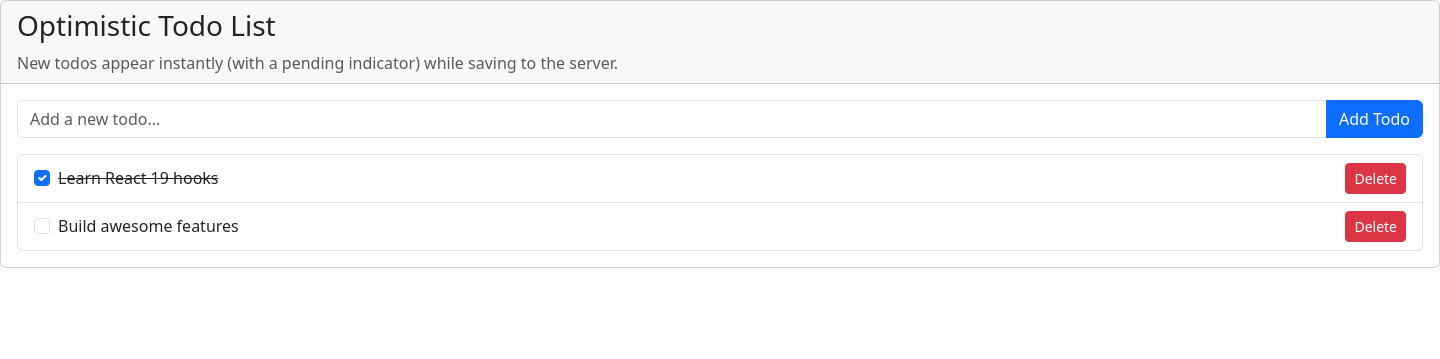
Test case: OptimisticTodos › Adding todos › should show error when add fails
Type "New todo" into the field with placeholder "Add a new todo..." at (672, 119), box [17,100,1327,138]
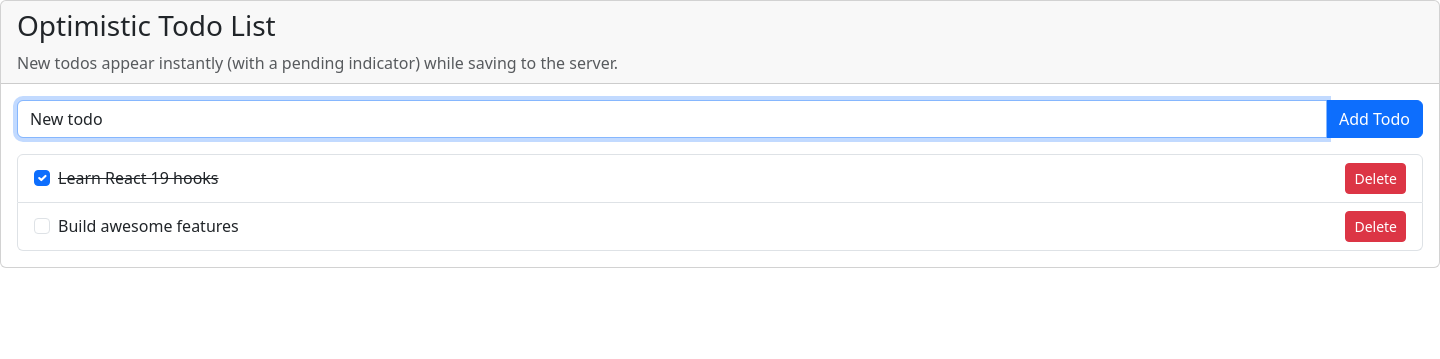
Click the button "Add Todo" at (1374, 119), box [1326,100,1423,138]
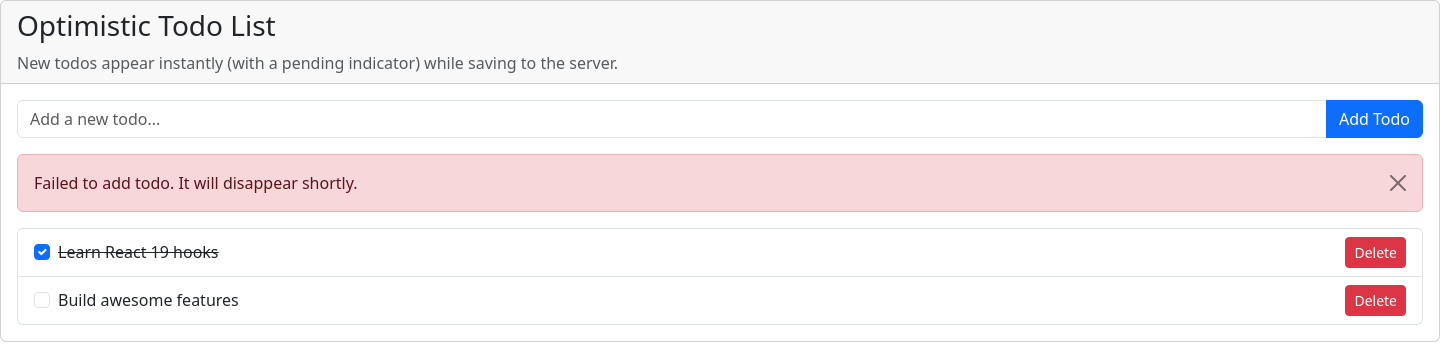
Result: the text "Failed to add todo. It will disappear shortly." is shown at [17,154,1423,212]
